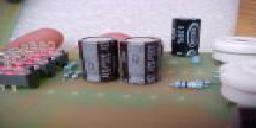Electrolytic-Capacitor: (121, 34, 161, 88), (77, 34, 119, 85)
